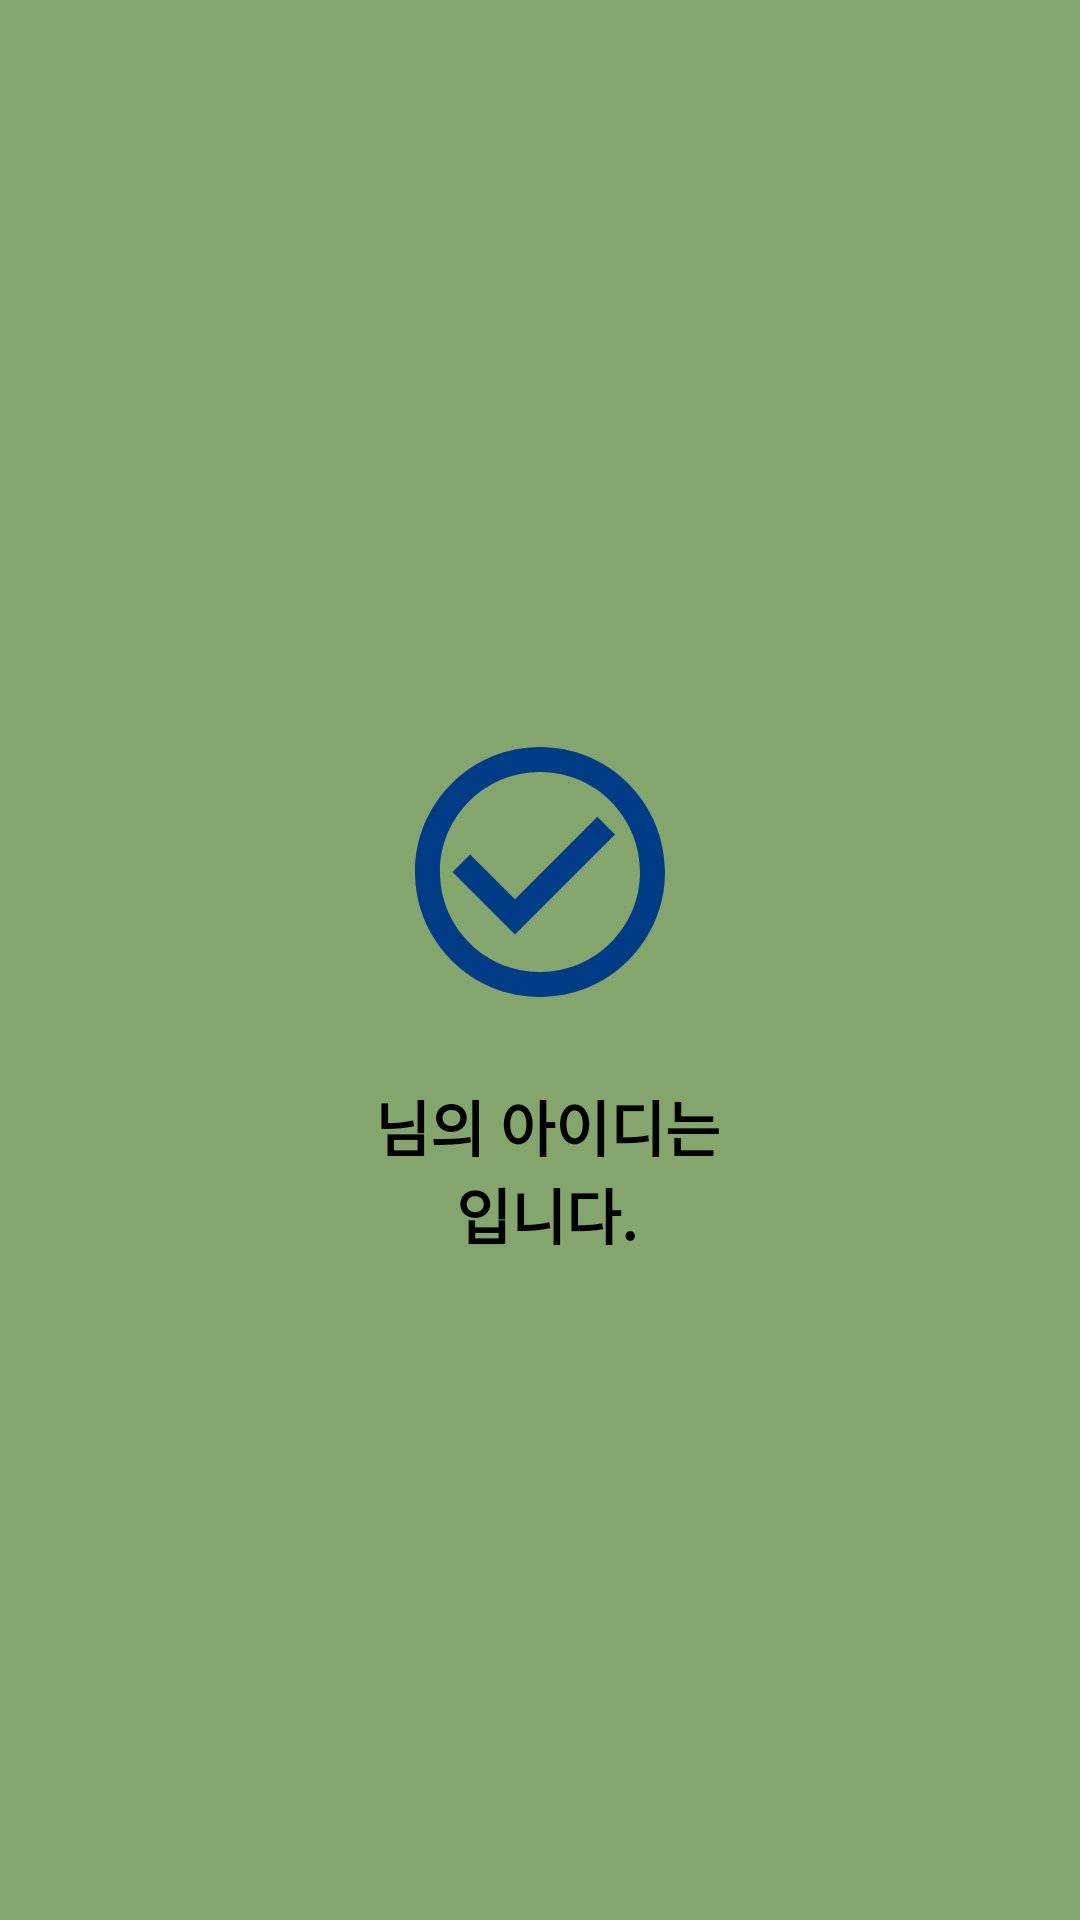

Icons on this 1080×1920 Android screen, each with the point to tap as point (x, y):
find id fin: point (540, 872)
